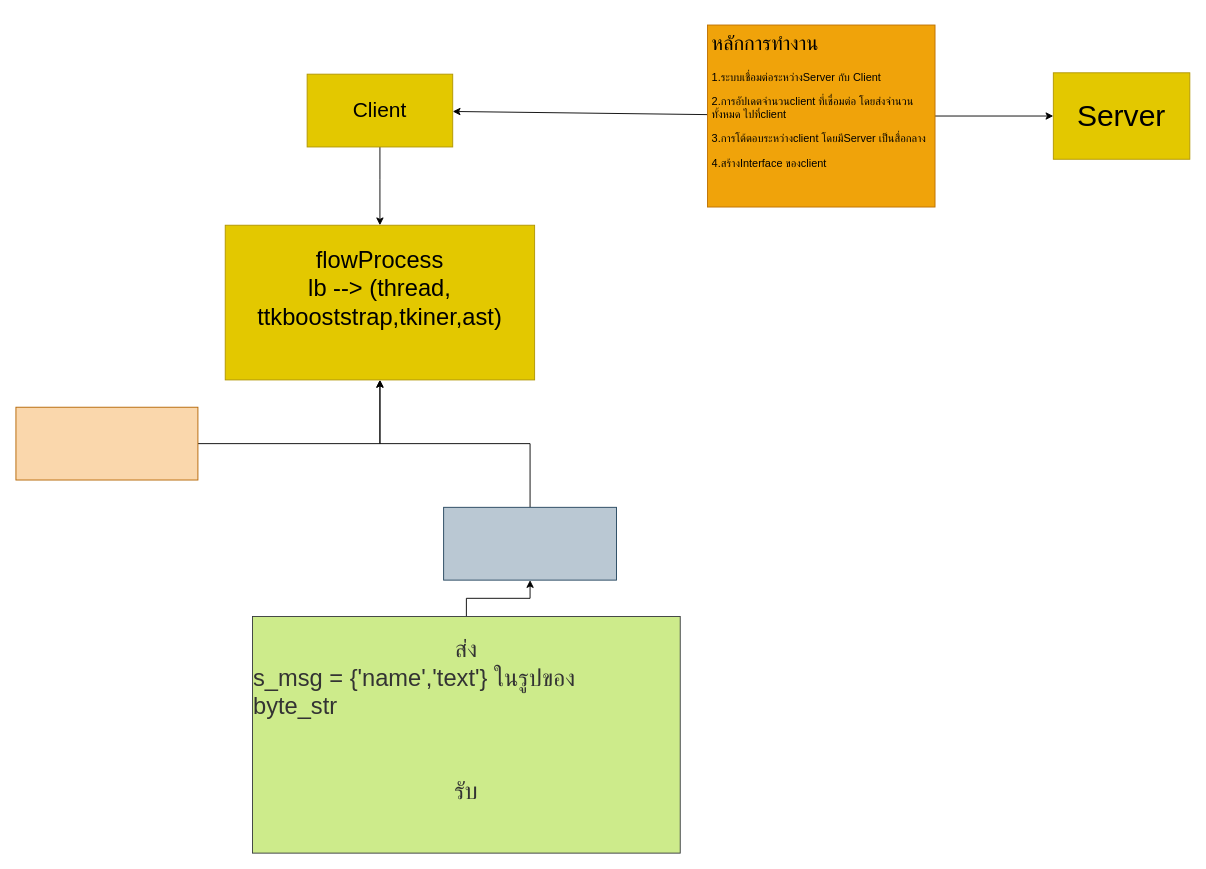
Some shapes in this 1206 by 869 pixel diagram are drawn without their labels. The shapes that lost their labels are listed below. From the top down, each one's centre as x and y in pixels, then its label:
(x=106, y=443): User-Interface
(x=530, y=543): Client_manage
